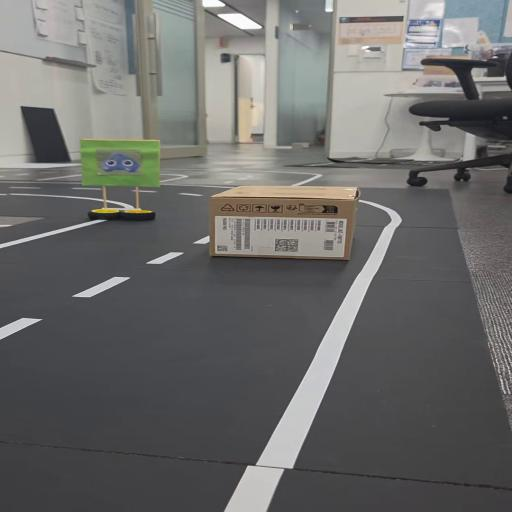Box: (210, 184, 364, 262)
Sign_B: (78, 133, 168, 229)
